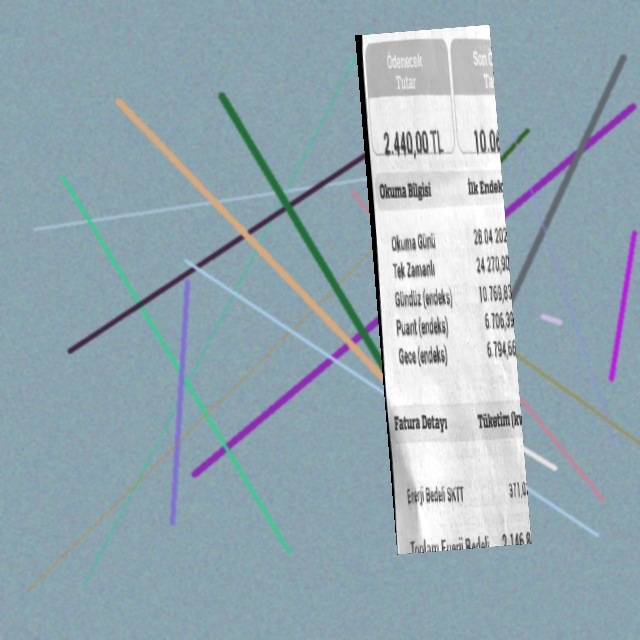electricity-bill: (354, 23, 531, 554)
